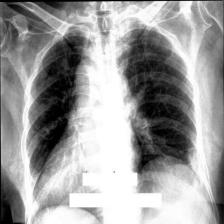tuberculosis: (17, 8, 213, 201)
